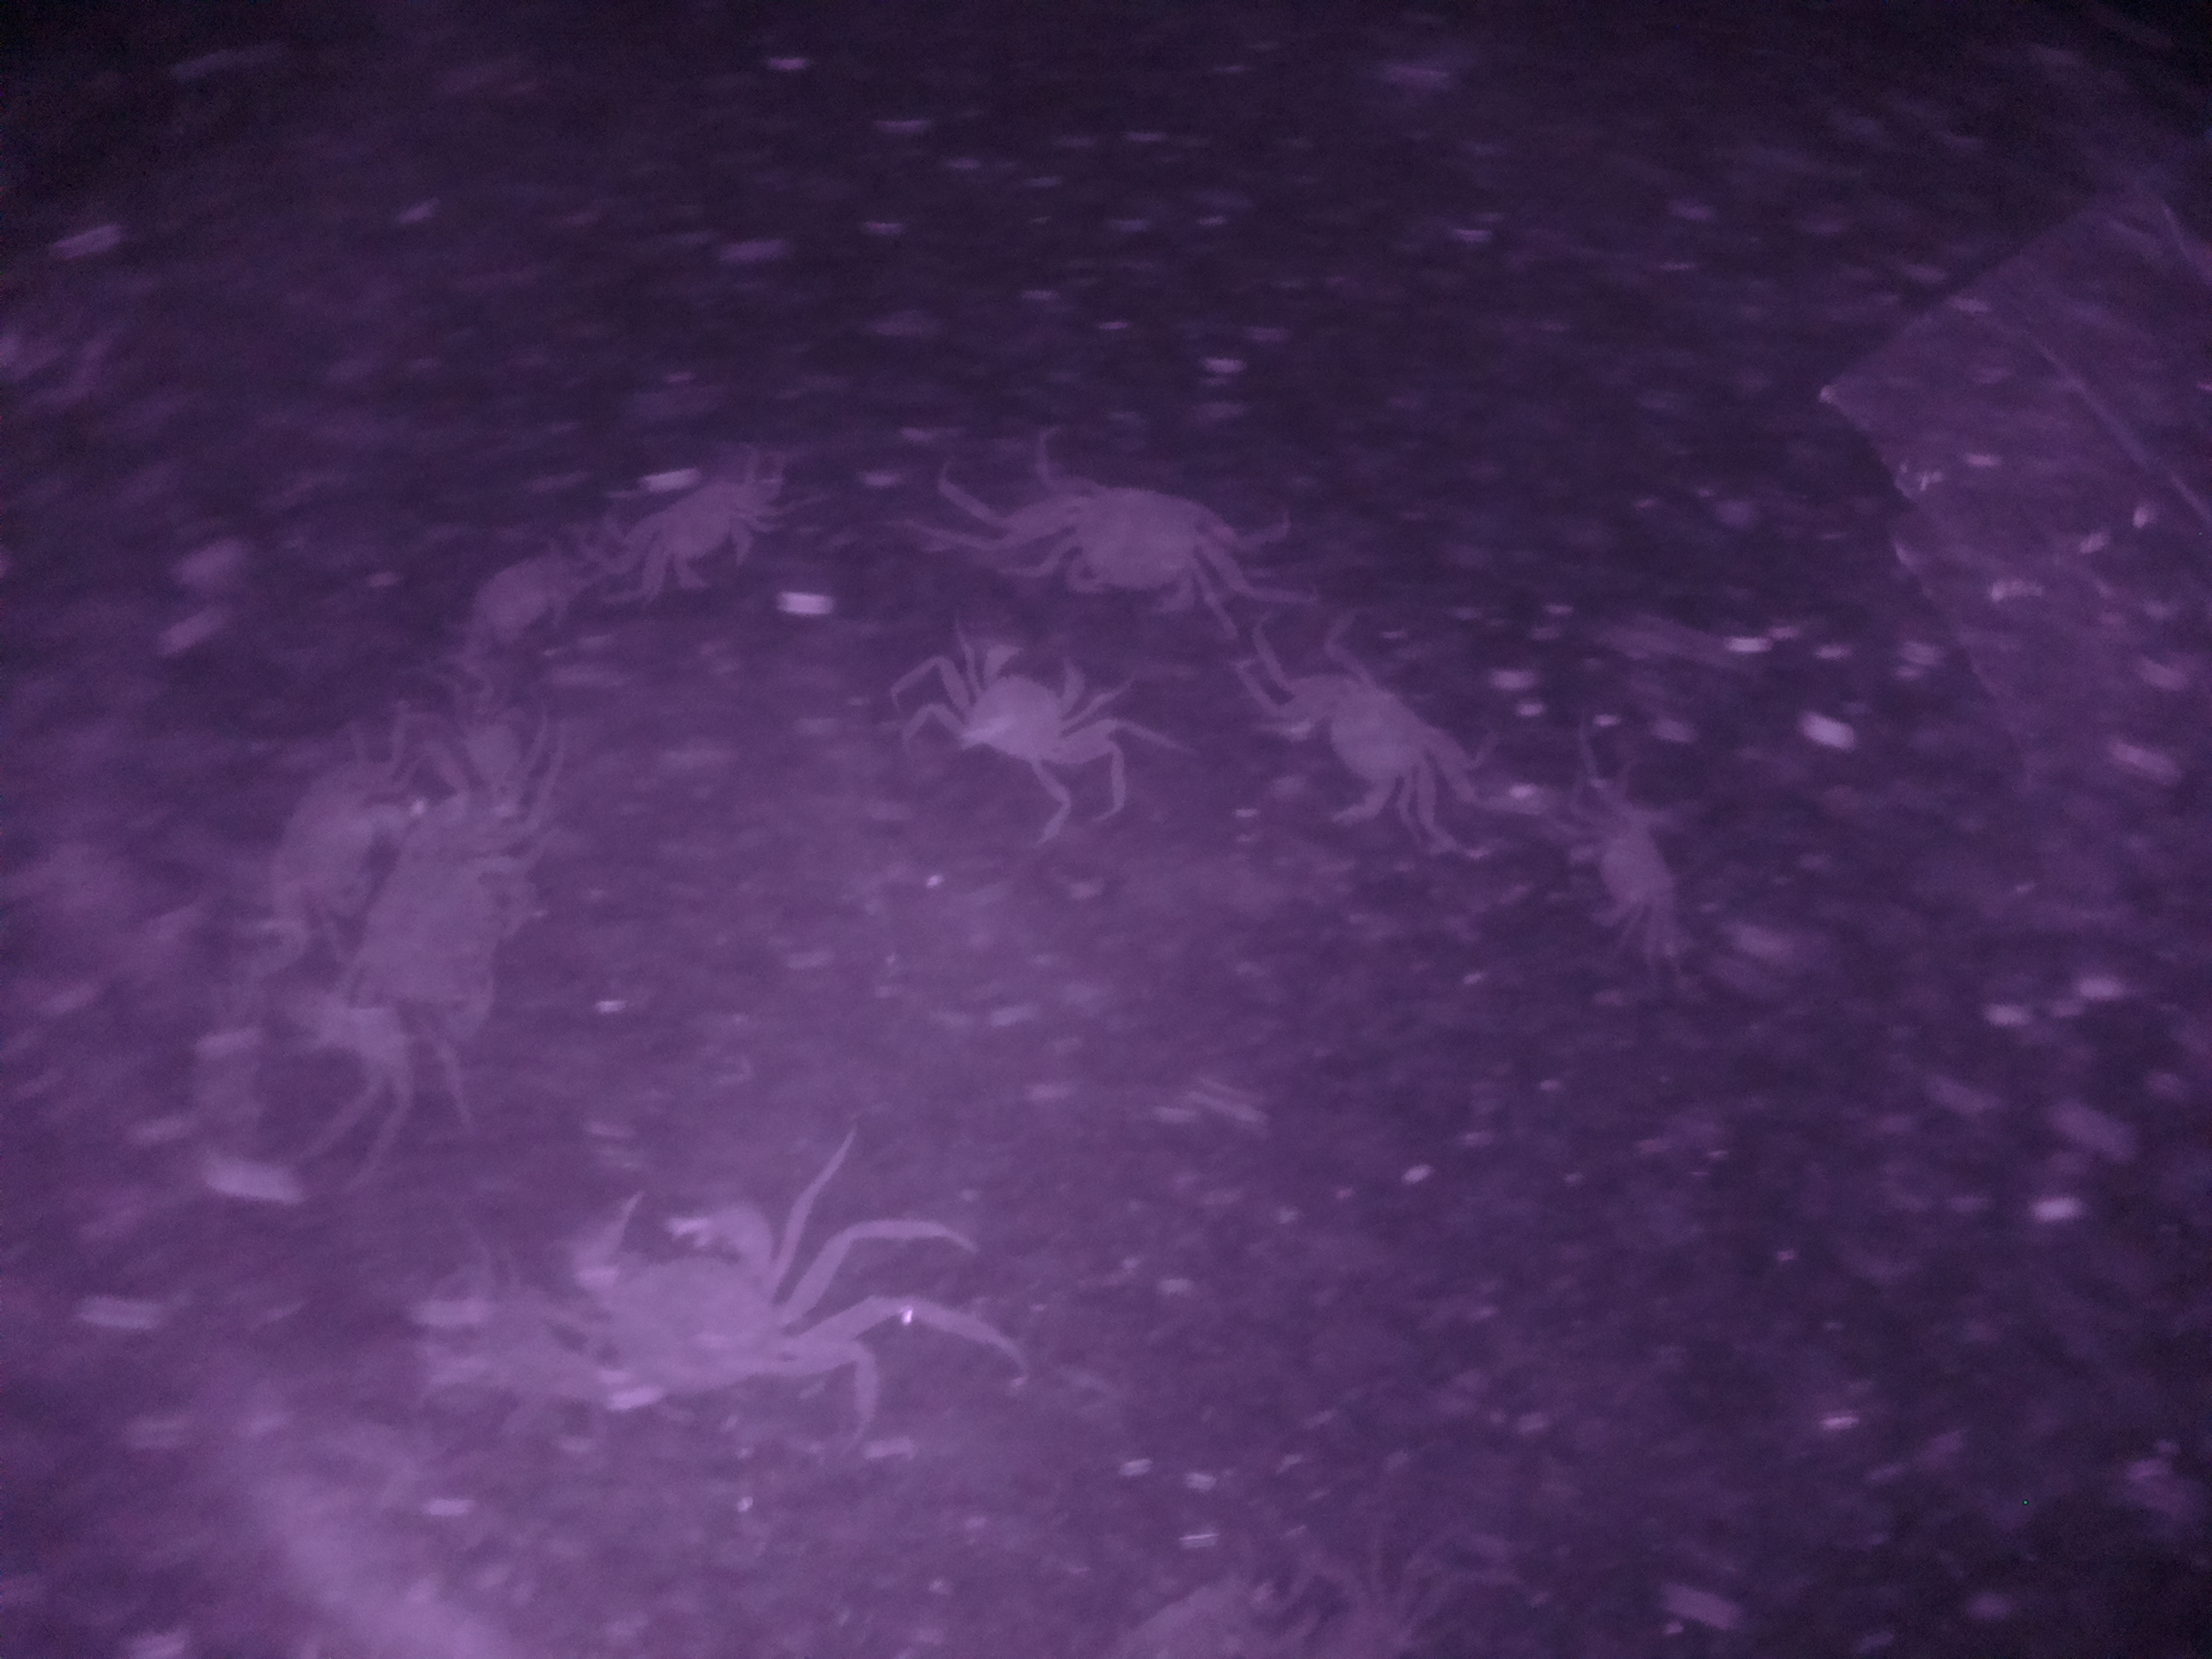Crab: (1019, 448, 1256, 622), (1277, 641, 1468, 835), (935, 633, 1111, 775), (615, 458, 782, 606)
